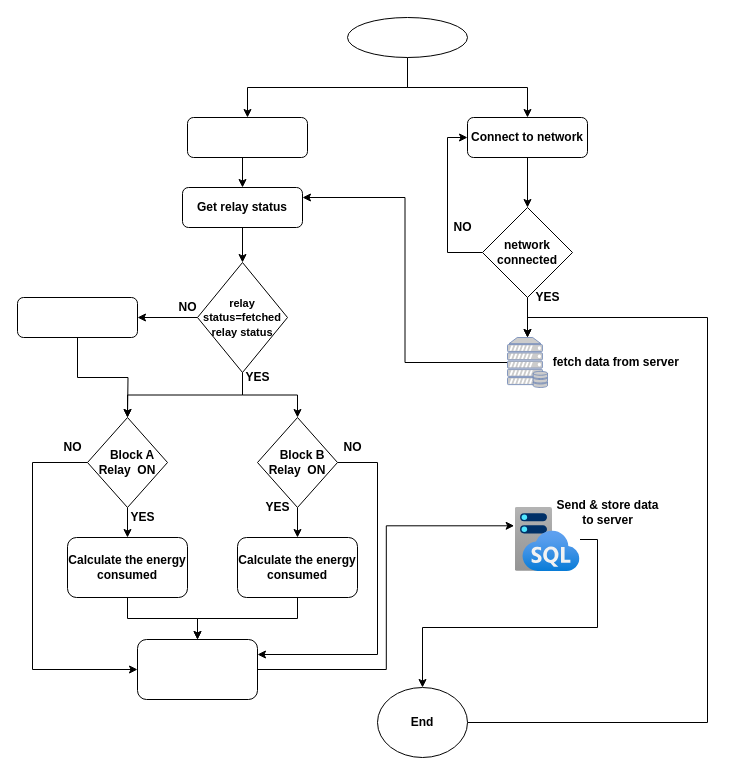
The diagram is 733 pixels wide and 775 high, and some of its shapes have lost their labels. The centre of each missing label's shape, as x and y in pixels:
"Display data on Nokia display" goes at (197,669).
"Read values from sensors" goes at (247,137).
"start" goes at (407,37).
"Update relay status" goes at (77,317).
